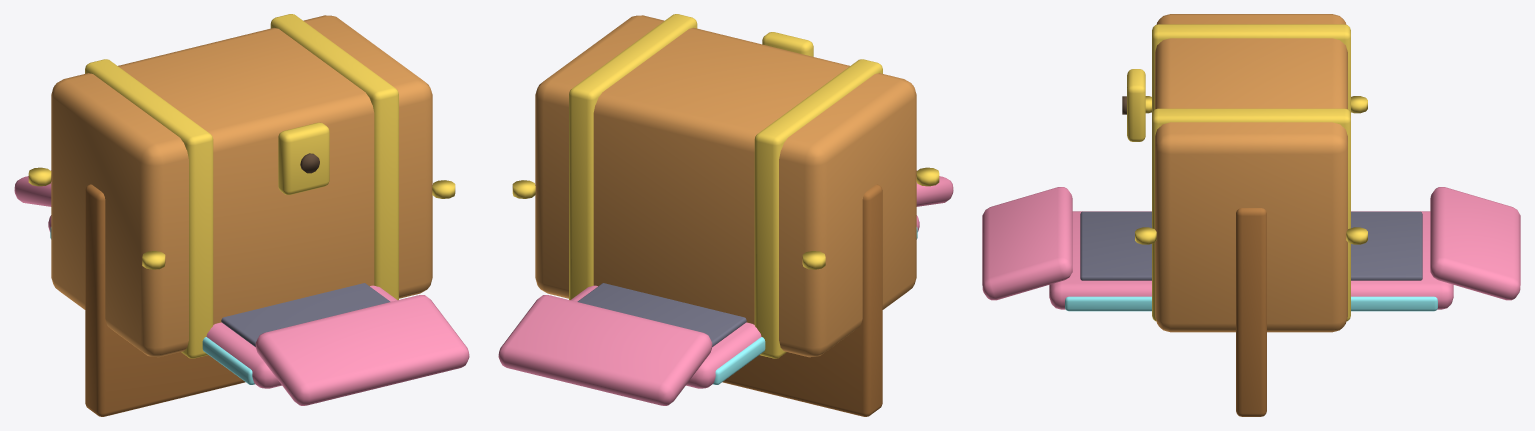
The model's file is props.glb.
The picture shows the model from 3 angles, left to right: view 1: azimuth 30°, elevation 25°; view 2: azimuth 150°, elevation 25°; view 3: azimuth 270°, elevation 25°; orthographic projection. The views are drawn at different scales.
Visible parts, largest first — view 1: chest_body, board_tip, chest_base, chest_band, chest_band.001, board_grip, chest_lock, board_deck, board_rail, board_tip.001; view 2: chest_body, board_tip.001, chest_base, chest_band, chest_band.001, board_grip, board_deck, board_rail, board_tip, chest_lock; view 3: chest_body, board_grip, board_tip, board_tip.001, chest_base, board_deck, chest_band.001, chest_band, board_rail.001, chest_lock.
Boxes of the visible parts, <box> form: chest_body: <box>51,15,432,357</box>; board_tip: <box>255,295,469,405</box>; chest_base: <box>85,184,245,416</box>; chest_band: <box>85,59,213,358</box>; chest_band.001: <box>270,14,398,299</box>; board_grip: <box>221,283,390,347</box>; chest_lock: <box>278,122,329,194</box>; board_deck: <box>48,215,397,388</box>; board_rail: <box>50,227,254,384</box>; board_tip.001: <box>14,170,51,206</box>; chest_body: <box>535,15,916,357</box>; board_tip.001: <box>498,295,712,405</box>; chest_base: <box>722,184,882,416</box>; chest_band: <box>754,59,882,358</box>; chest_band.001: <box>569,14,697,299</box>; board_grip: <box>577,283,746,347</box>; board_deck: <box>570,215,919,388</box>; board_rail: <box>713,227,917,384</box>; board_tip: <box>916,170,953,206</box>; chest_lock: <box>762,32,813,56</box>; chest_body: <box>1155,14,1347,332</box>; board_grip: <box>1080,211,1422,280</box>; board_tip: <box>982,187,1072,300</box>; board_tip.001: <box>1430,187,1520,300</box>; chest_base: <box>1236,208,1266,416</box>; board_deck: <box>1049,211,1453,309</box>; chest_band.001: <box>1152,108,1350,321</box>; chest_band: <box>1152,24,1350,113</box>; board_rail.001: <box>1065,296,1437,311</box>; chest_lock: <box>1127,69,1145,141</box>.
Bounding box in the file's own units: 1.07 × 0.995 × 1.73.
